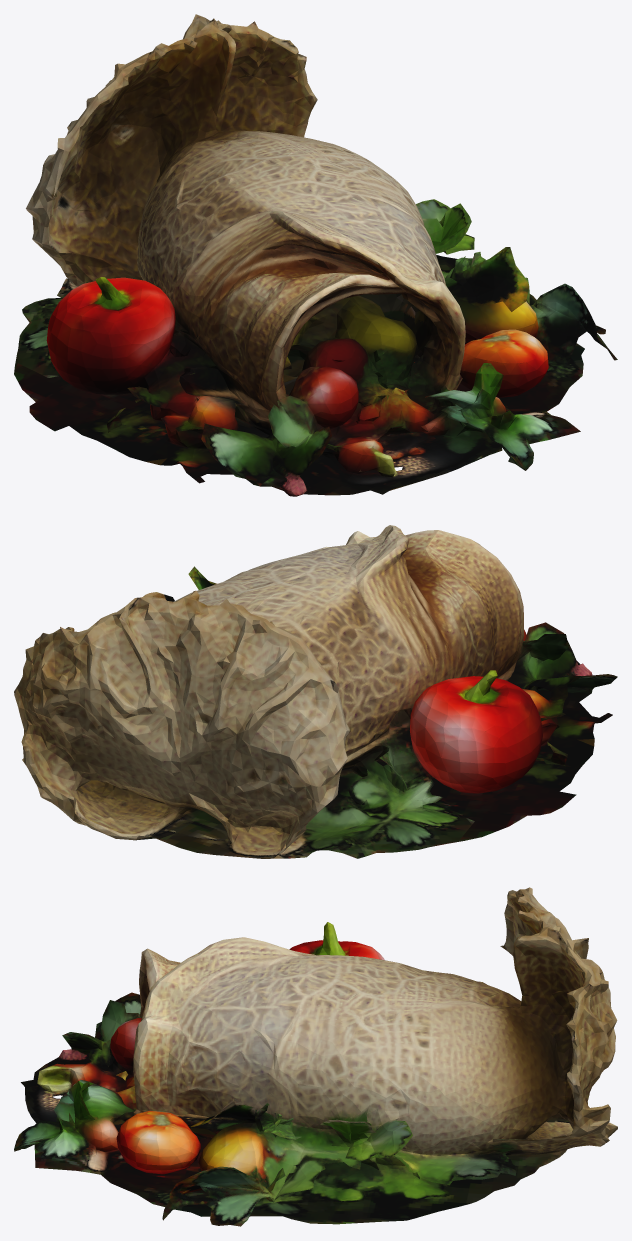
Rendered from hemp-food-wrap-rustic.jpeg.glb.
3 renders of one model, top to bottom at view 1: azimuth 30°, elevation 25°; view 2: azimuth 150°, elevation 25°; view 3: azimuth 270°, elevation 25°, orthographic. The views are drawn at different scales.
Parts seen in each view (by area): view 1: world; view 2: world; view 3: world.
Boxes of the visible parts, x1,y1,x2,y2 form: world: [14, 14, 617, 496]; world: [14, 525, 617, 858]; world: [14, 887, 617, 1226].
Bounding box in the file's own units: 0.8626 × 0.3856 × 0.9701.
Materials: 1 (1 with a texture image).
